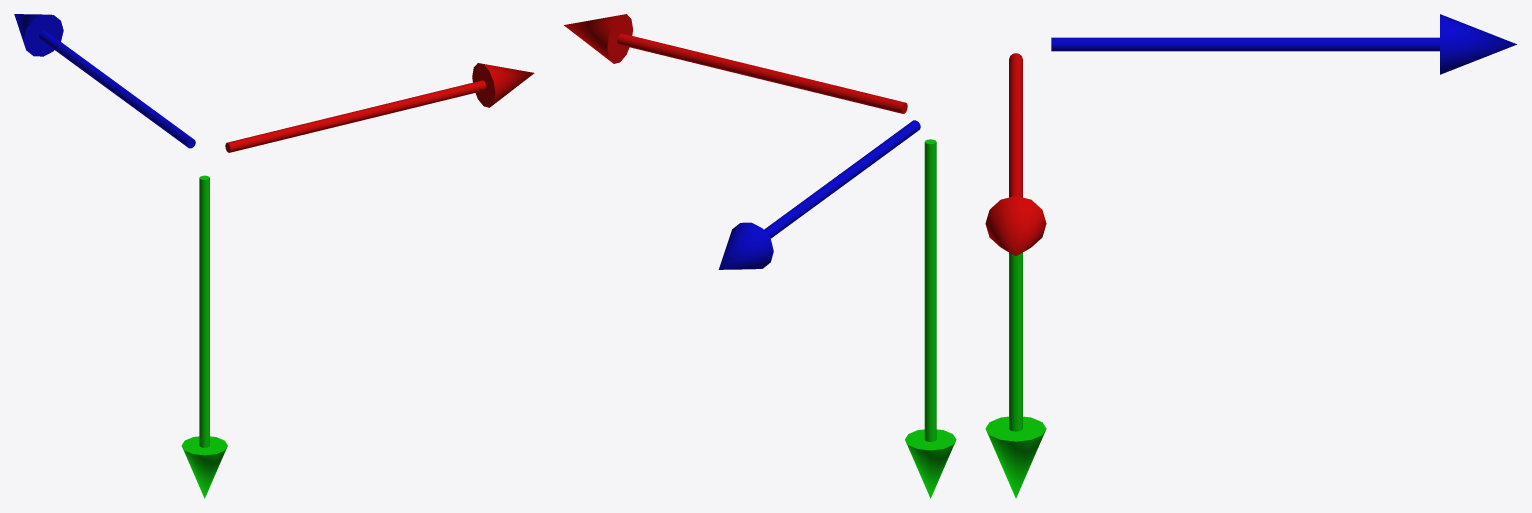
File: Gizmo.FBX
3 views of the same model, side by side, from view 1: azimuth 30°, elevation 25°; view 2: azimuth 150°, elevation 25°; view 3: azimuth 270°, elevation 25° (orthographic). The views are drawn at different scales.
Visible parts, largest first — view 1: Arrow_Y, Arrow_X, Arrow_Z; view 2: Arrow_Y, Arrow_X, Arrow_Z; view 3: Arrow_Z, Arrow_Y, Arrow_X.
Boxes of the visible parts, x1=… form: Arrow_Y: x1=181, y1=175, x2=227, y2=498; Arrow_X: x1=225, y1=63, x2=534, y2=152; Arrow_Z: x1=14, y1=14, x2=195, y2=148; Arrow_Y: x1=905, y1=139, x2=956, y2=498; Arrow_X: x1=564, y1=14, x2=907, y2=113; Arrow_Z: x1=718, y1=120, x2=920, y2=269; Arrow_Z: x1=1051, y1=14, x2=1516, y2=74; Arrow_Y: x1=985, y1=252, x2=1046, y2=498; Arrow_X: x1=985, y1=53, x2=1046, y2=255.
Bounding box in the file's own units: 15.06 × 15.06 × 15.06.
